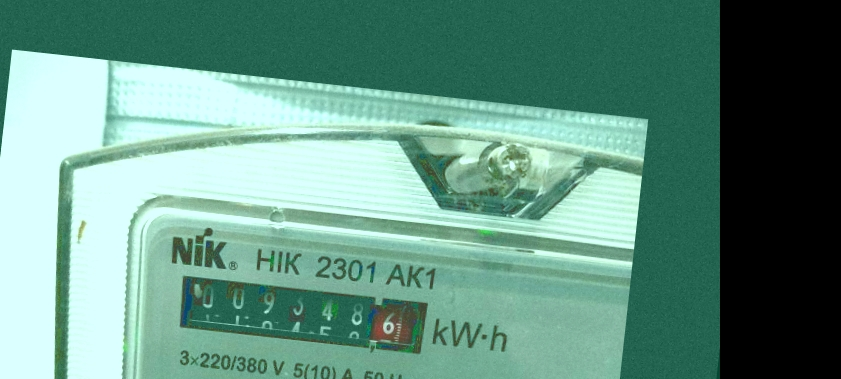0: (198, 282, 217, 310), (229, 283, 246, 310)
3: (290, 290, 307, 317)
4: (316, 291, 338, 323)
6: (378, 306, 398, 337)
8: (348, 298, 366, 327)
9: (260, 289, 277, 318)
screen: (158, 259, 443, 366)
